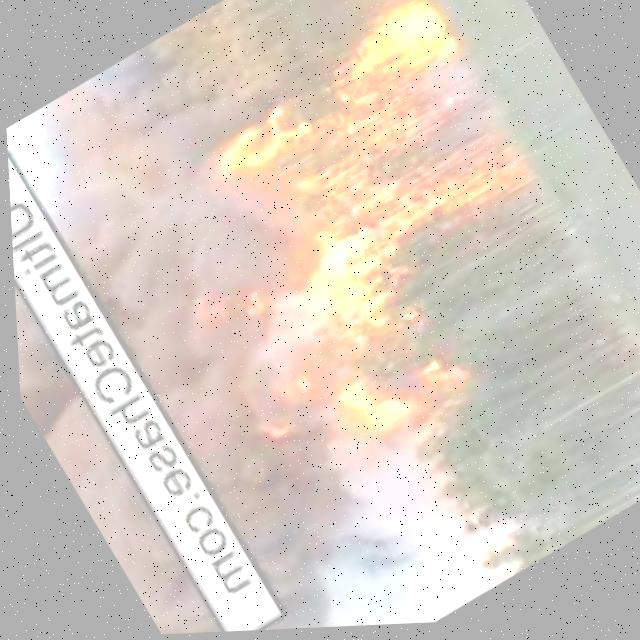Fire: (143, 0, 547, 355), (232, 298, 476, 506)
Smoke: (4, 80, 392, 640), (9, 222, 258, 640)
